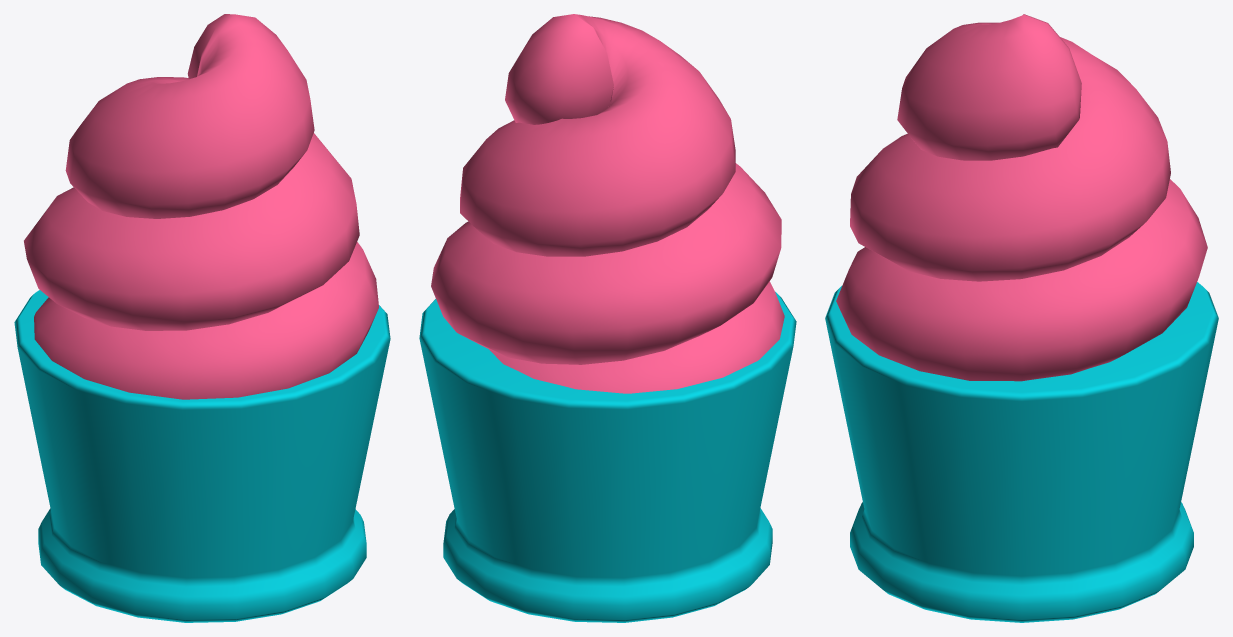
Rendered from Store_8_Candy_Decoration_1.glb.
The picture shows the model from 3 angles, left to right: view 1: azimuth 30°, elevation 25°; view 2: azimuth 150°, elevation 25°; view 3: azimuth 270°, elevation 25°; orthographic projection. The views are drawn at different scales.
Parts seen in each view (by area): view 1: Store_8_Candy_Decoration_1; view 2: Store_8_Candy_Decoration_1; view 3: Store_8_Candy_Decoration_1.
Boxes of the visible parts, <box> form: Store_8_Candy_Decoration_1: <box>14,14,390,622</box>; Store_8_Candy_Decoration_1: <box>419,14,796,622</box>; Store_8_Candy_Decoration_1: <box>825,14,1218,622</box>.
Bounding box in the file's own units: 0.803 × 1.25 × 0.803.
1 material, 1 textured.
